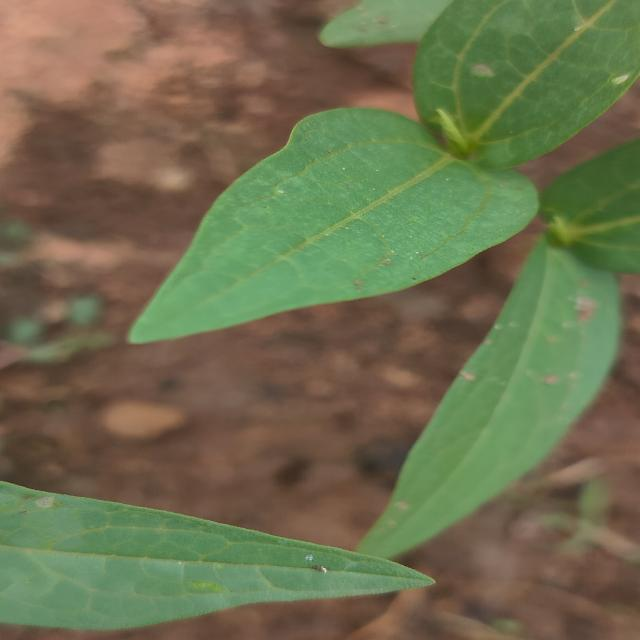Black gram_healthy: (128, 101, 548, 341), (361, 229, 626, 553), (3, 480, 434, 629), (426, 0, 640, 169)
